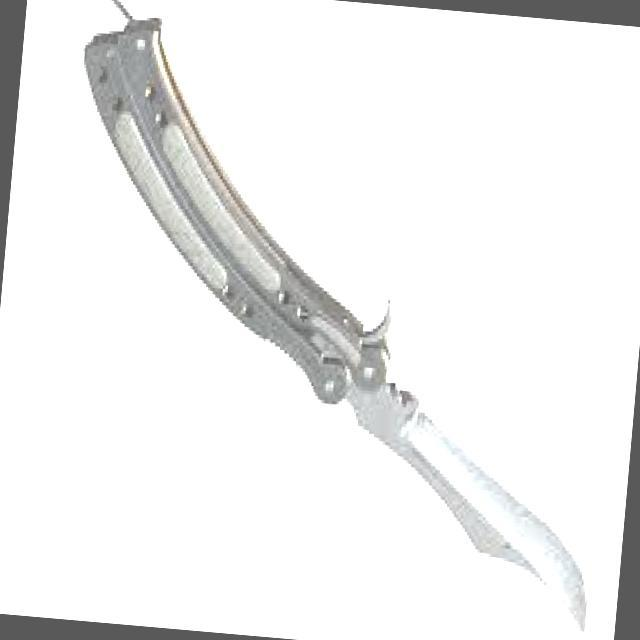Knife: (25, 0, 640, 640)
